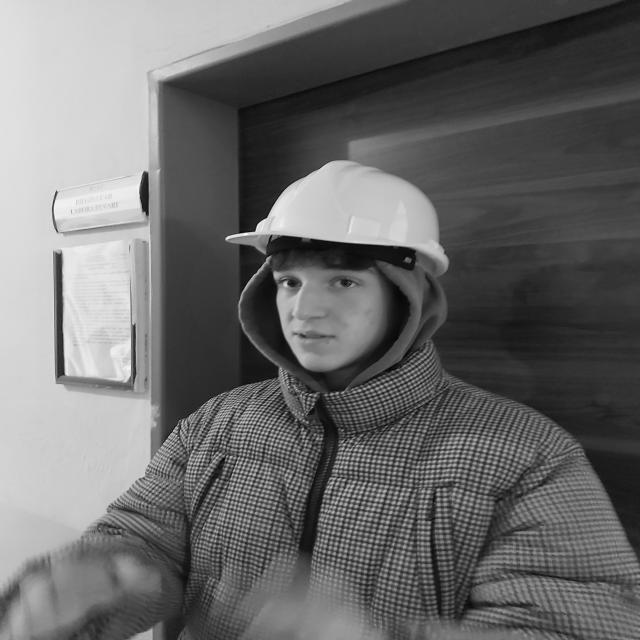safety_helmet: (227, 160, 450, 279)
